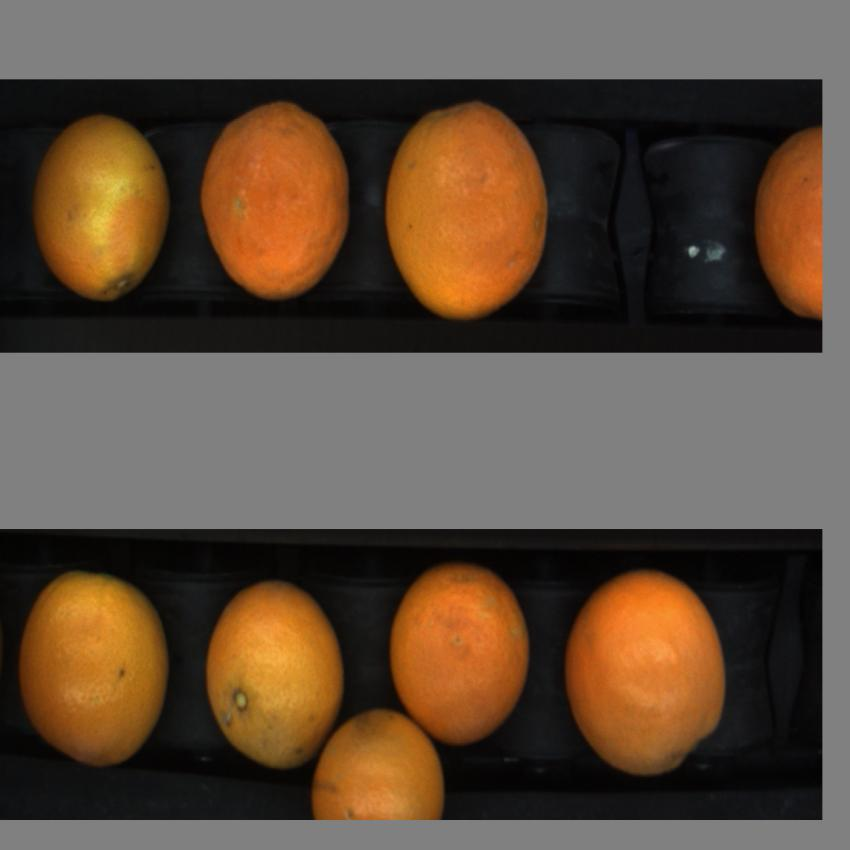Buen estado: (568, 574, 728, 781), (15, 574, 180, 764), (382, 564, 542, 748), (200, 579, 346, 771), (311, 709, 448, 819)
Mal estado: (388, 101, 551, 316), (195, 100, 356, 301), (30, 118, 173, 304), (751, 127, 825, 321)
